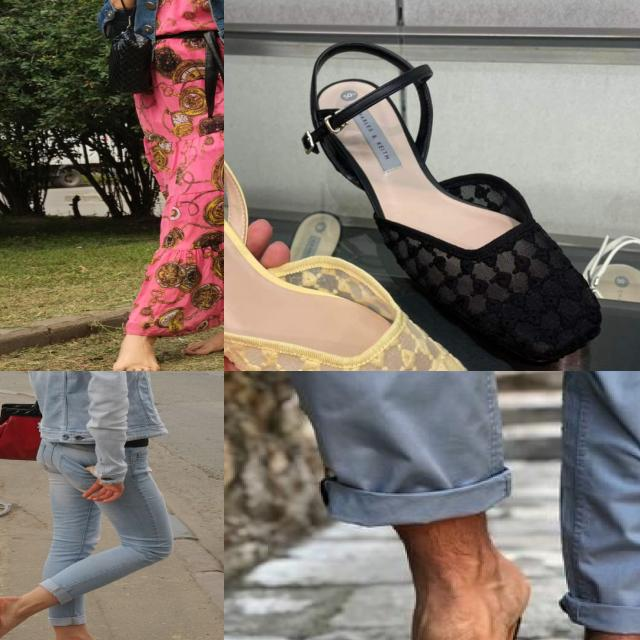Barefoots: (111, 337, 160, 371), (181, 323, 224, 355), (0, 596, 13, 640)
Sandals: (283, 29, 640, 371), (224, 92, 496, 371), (380, 546, 529, 640)
